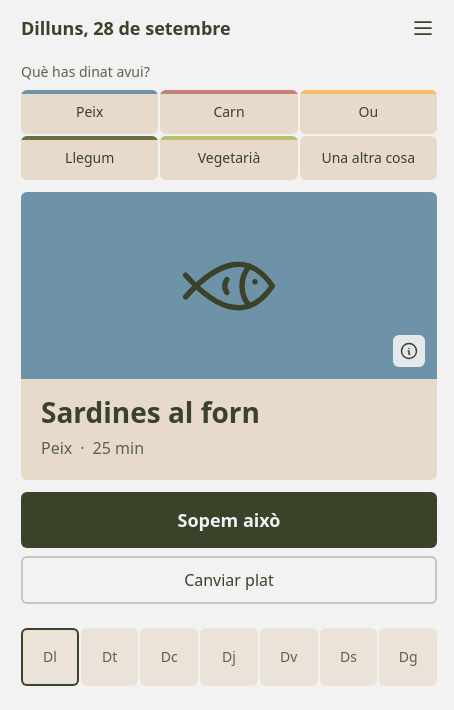
Scenario: TodayScreen › dinar › tornar a tocar l’opció marcada l’esborra
expect the heading "Dilluns, 28 de setembre" is shown: met, box [21,16,231,40]
Click the button "Peix".
click(90, 112)  # box [21,90,158,134]
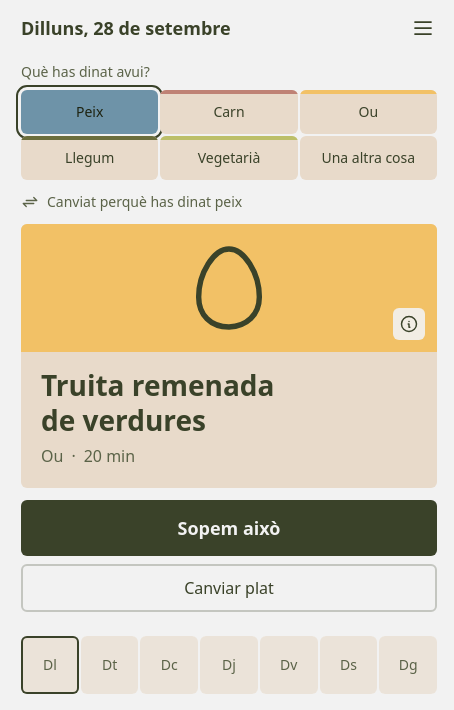
Click the button "Peix".
click(90, 112)  # box [21,90,158,134]
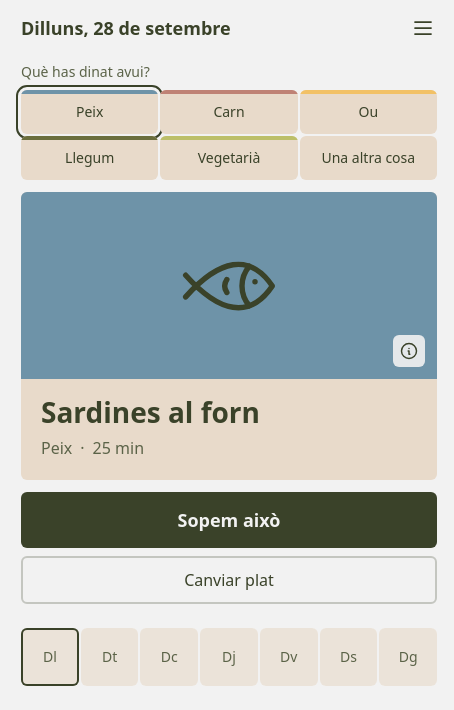
expect the text "Canviat perquè has dinat peix" is gone: met
